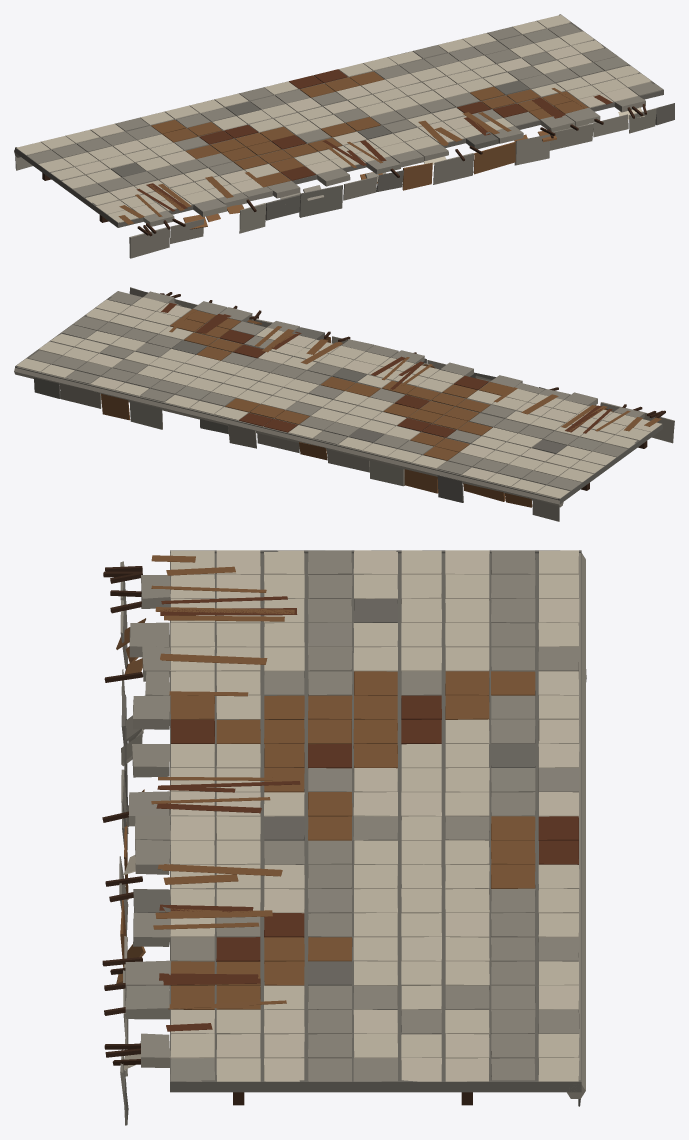
Rendered from ship_wing_deck.glb.
3 renders of one model, top to bottom at view 1: azimuth 30°, elevation 25°; view 2: azimuth 150°, elevation 25°; view 3: azimuth 270°, elevation 25°, orthographic. The views are drawn at different scales.
Parts seen in each view (by area): view 1: ship_wing_deck; view 2: ship_wing_deck; view 3: ship_wing_deck.
Part boxes in pixels (x1,y1,x2,y2): ship_wing_deck: (14,14,674,258); ship_wing_deck: (14,287,674,521); ship_wing_deck: (102,550,586,1125).
Size of the model in its own units: 88.03 by 4.68 by 33.86.
